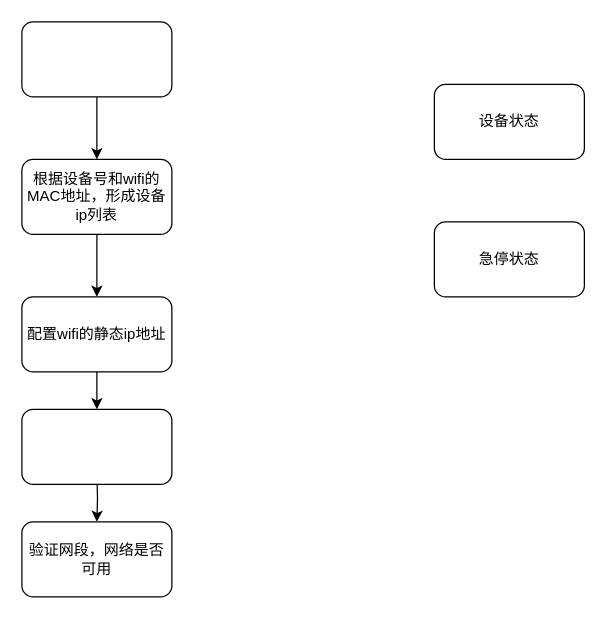
Some shapes in this 606 by 619 pixel diagram are drawn without their labels. The shapes that lost their labels are listed below. From the top down, each one's centre as x and y in pixels, then its label:
point 96,59: 配置wifi SSID
point 96,446: http传输相关ip地址或配置命令
